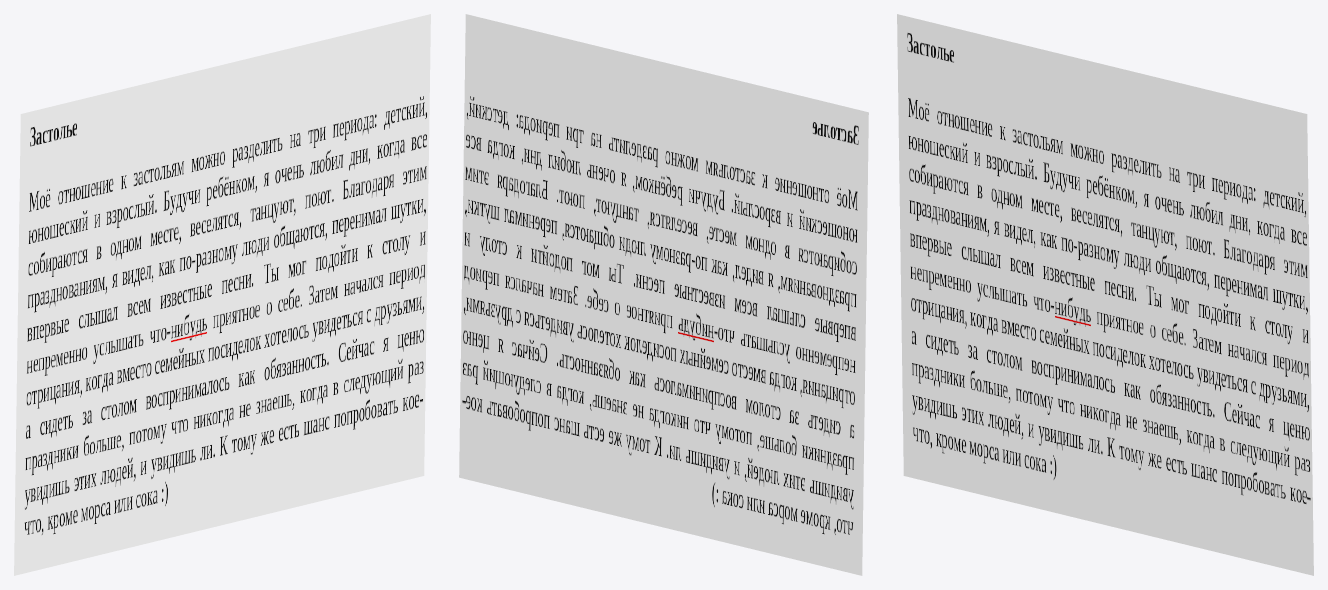
File: zastolie.gltf
The picture shows the model from 3 angles, left to right: view 1: azimuth 30°, elevation 25°; view 2: azimuth 150°, elevation 25°; view 3: azimuth 330°, elevation 25°; orthographic projection.
Visible parts, largest first — view 1: Плоскость; view 2: Плоскость; view 3: Плоскость.
Boxes of the visible parts, x1,y1,x2,y2 form: Плоскость: (14, 14, 430, 575); Плоскость: (459, 14, 868, 575); Плоскость: (897, 14, 1313, 575).
Bounding box in the file's own units: 6.04 × 6.57 × 0.1725.
Materials: 1 (1 with a texture image).
